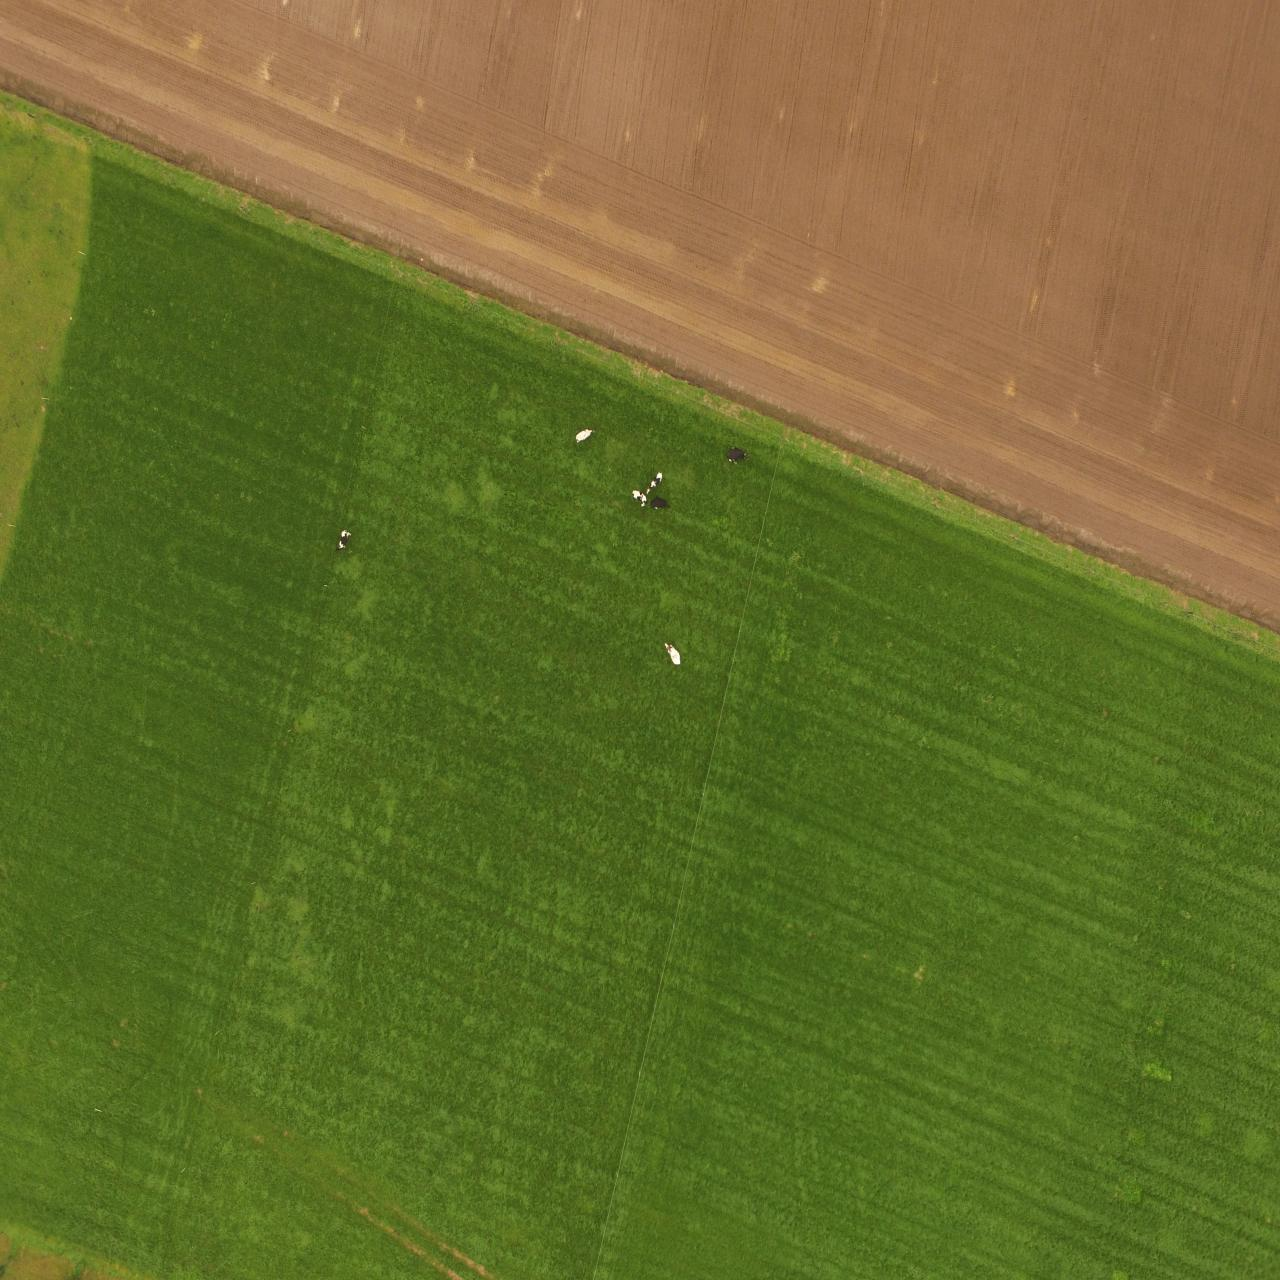cow: (726, 444, 750, 467), (662, 641, 682, 666), (572, 425, 594, 445), (647, 470, 665, 493), (651, 496, 670, 511), (631, 490, 647, 508)
